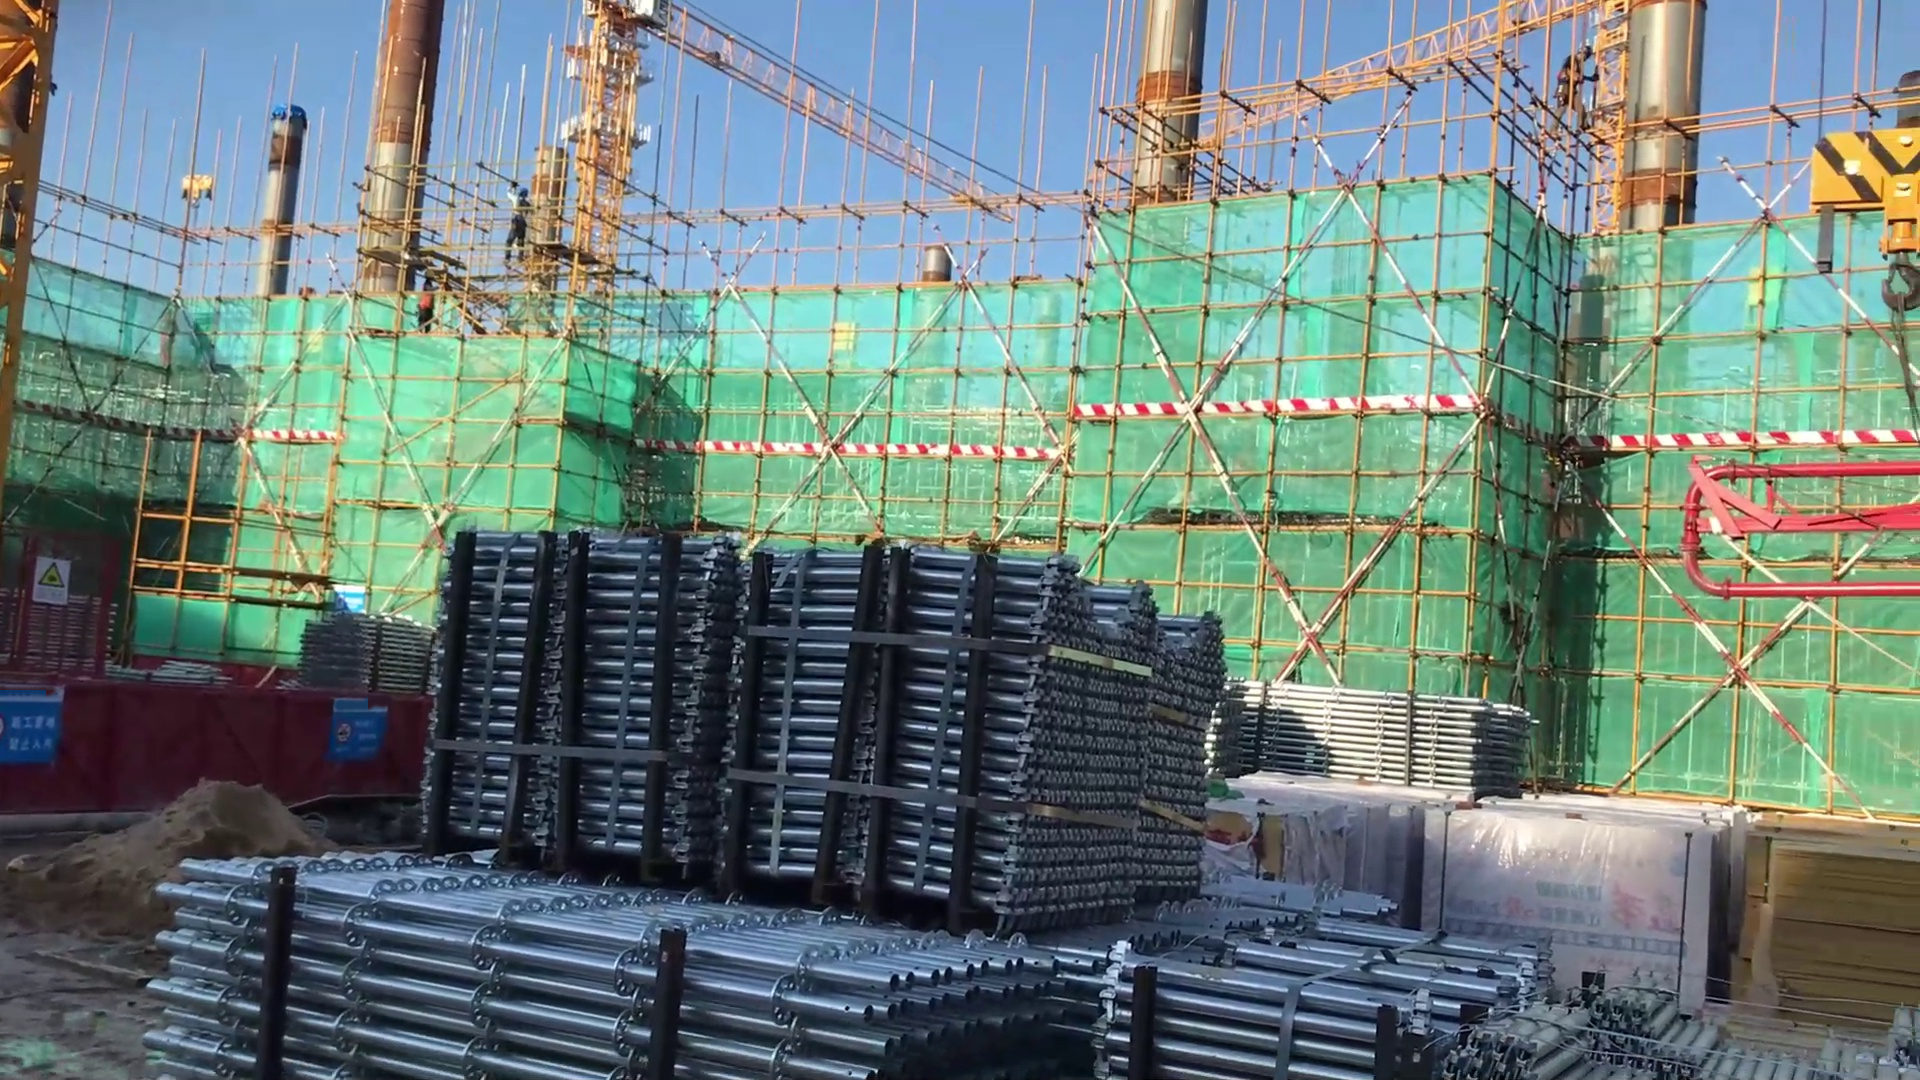board: (1748, 812, 1920, 1033)
fence: (1, 652, 454, 823), (1, 526, 137, 679)
hook: (1777, 109, 1920, 321)
person: (408, 267, 447, 346), (503, 186, 534, 269)
scaffold: (426, 514, 1223, 913), (152, 813, 1112, 1080), (1069, 859, 1552, 1080), (1187, 676, 1547, 819), (1512, 969, 1908, 1080), (294, 592, 440, 698)
slogan: (5, 701, 84, 780), (326, 694, 401, 767), (31, 549, 73, 612), (327, 573, 375, 617)
